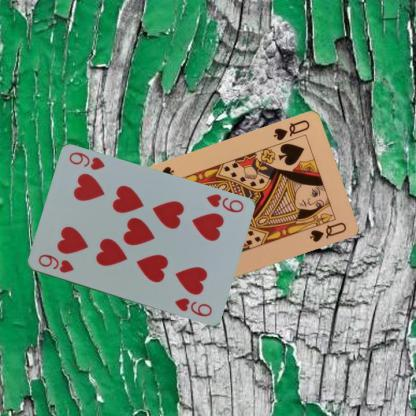9h: (203, 192, 245, 214), (35, 252, 75, 274)
Qs: (270, 117, 311, 142)
